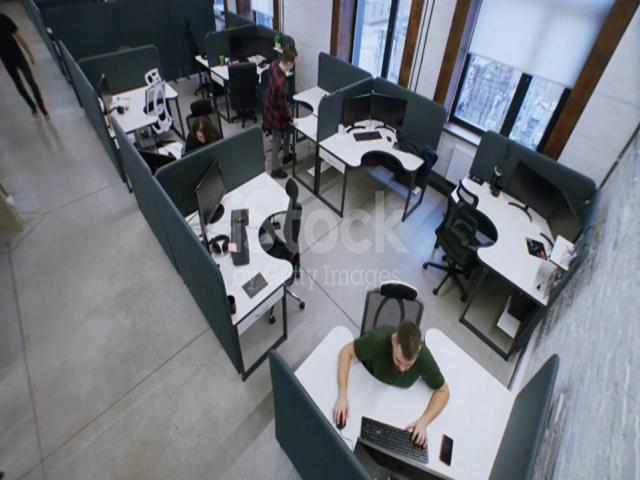EMPTY_CHAIR: (434, 176, 494, 298), (274, 174, 318, 314), (128, 65, 182, 139), (256, 53, 293, 160), (173, 16, 209, 95), (225, 56, 258, 125)
PERSON_IN_CHAIR: (360, 282, 448, 418), (180, 91, 228, 148)
